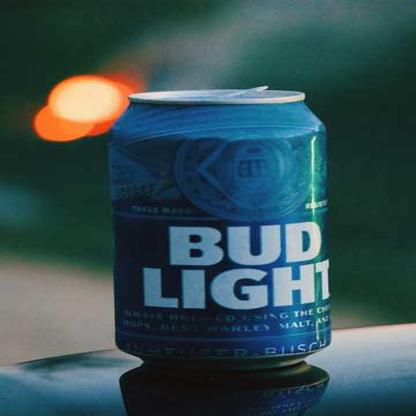can: (96, 80, 346, 374)
